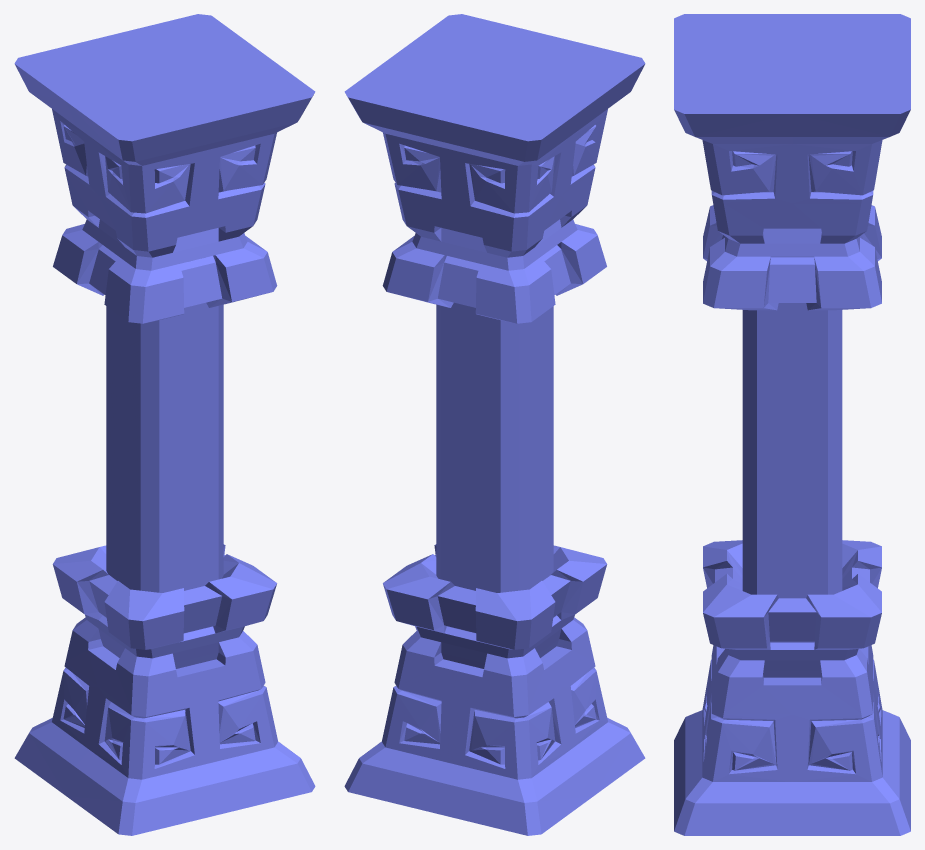
Rendered from pillar_SM.fbx.
3 renders of one model, left to right at view 1: azimuth 30°, elevation 25°; view 2: azimuth 150°, elevation 25°; view 3: azimuth 270°, elevation 25°, orthographic. The views are drawn at different scales.
Visible parts, largest first — view 1: pillar_01_SM; view 2: pillar_01_SM; view 3: pillar_01_SM.
Part boxes in pixels (<box>): pillar_01_SM: <box>14,14,315,835</box>; pillar_01_SM: <box>344,14,645,835</box>; pillar_01_SM: <box>674,14,910,835</box>.
Bounding box in the file's own units: 119 × 400 × 119.
